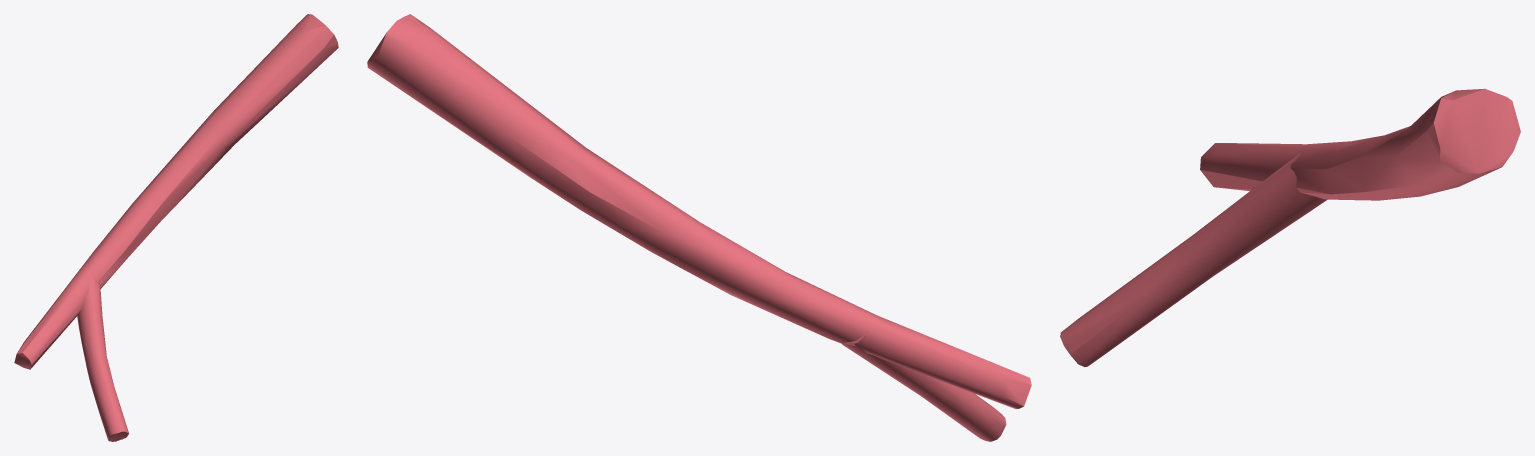
Rendered from fma68723_cx187.glb.
3 renders of one model, left to right at view 1: azimuth 30°, elevation 25°; view 2: azimuth 150°, elevation 25°; view 3: azimuth 270°, elevation 25°, orthographic. The views are drawn at different scales.
Visible parts, largest first — view 1: FMA68723_CX187; view 2: FMA68723_CX187; view 3: FMA68723_CX187.
Boxes of the visible parts, <box> form: FMA68723_CX187: <box>14,14,338,441</box>; FMA68723_CX187: <box>367,14,1031,441</box>; FMA68723_CX187: <box>1060,88,1520,366</box>.
Bounding box in the file's own units: 0.037 × 0.0263 × 0.0195.
